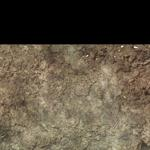dead: (1, 45, 146, 148)
